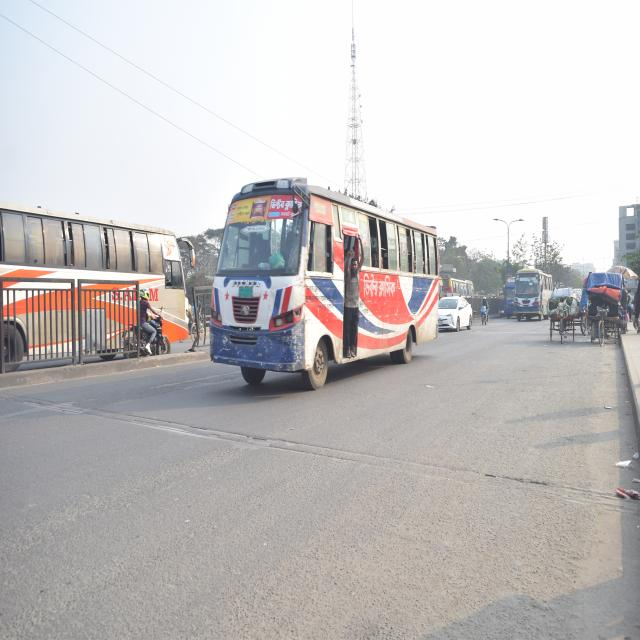bus: (213, 182, 443, 391), (0, 207, 193, 376), (516, 261, 553, 327), (501, 272, 517, 316)
car: (436, 292, 475, 330)
motorbike: (124, 304, 175, 360), (478, 292, 492, 330)
